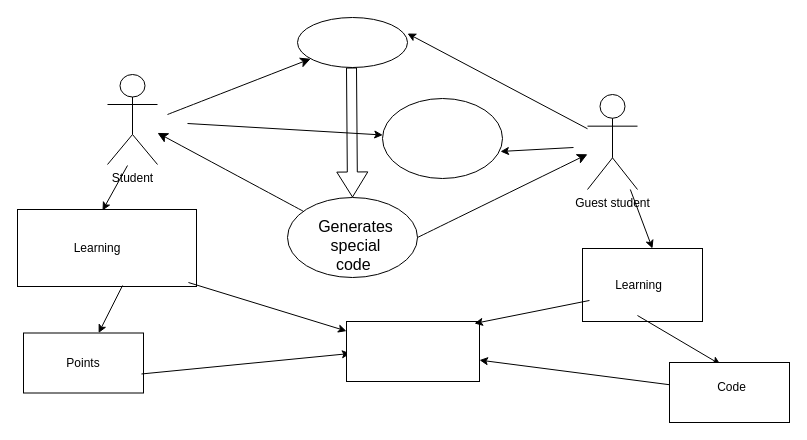
Image size: 807x440. Some labels were removed from this diagram. The box of each missing label's shape, as (x1, y1, x2, y2) in pixels:
Log in: (296, 16, 408, 68)
Rewards: (346, 320, 480, 382)
Same coffee shop: (382, 98, 502, 178)
